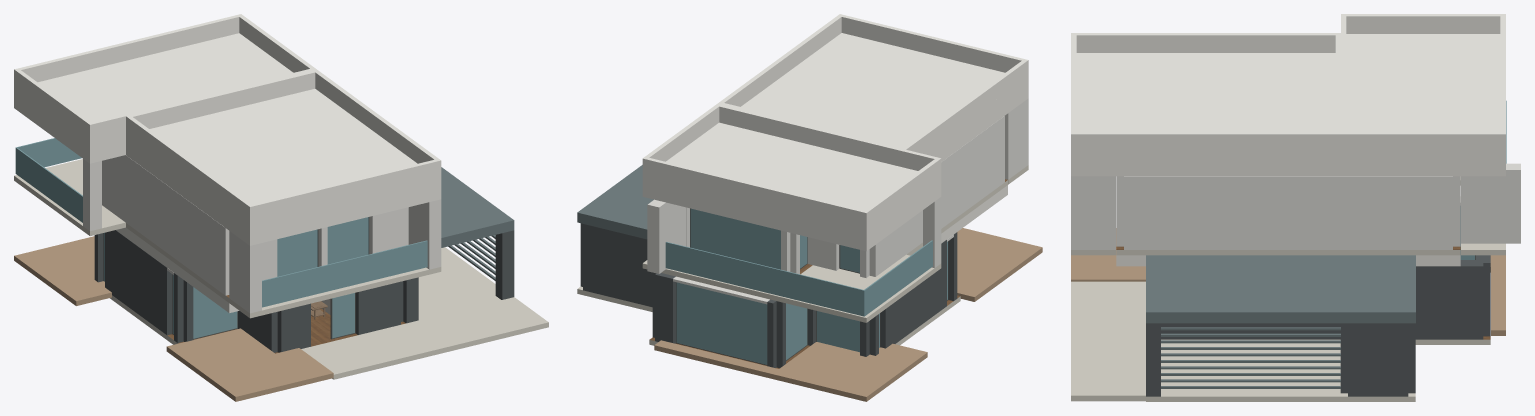
3 renders of one model, left to right at view 1: azimuth 30°, elevation 25°; view 2: azimuth 150°, elevation 25°; view 3: azimuth 270°, elevation 25°, orthographic. The views are drawn at different scales.
Visible parts, largest first — view 1: main-roof-1, main-roof-0, upper/west/end, carport-apron, balcony-glass-0, ground/kitchen-west/pier-1, parapet-0-3, front-deck, rear-west, parapet-1-2, ground/slab/2, parapet-1-3 (+32 smaller); view 2: main-roof-1, main-roof-0, upper/west/end, ground/living-rear/glass-0, rear-west, balcony-glass-2, ground/store-rear/end, parapet-0-3, parapet-0-2, upper/primary-rear/glass-0, parapet-1-2, carport-roof (+28 smaller); view 3: main-roof-1, upper/east/end, main-roof-0, carport-roof, carport-apron, ground/slab/2, ground/east/end, parapet-1-1, parapet-1-0, ground/store-east/end, balcony-frame-3, balcony-frame-1 (+30 smaller).
Part boxes in pixels (x1=…): main-roof-1: x1=126, y1=89, x2=441, y2=245; main-roof-0: x1=14, y1=33, x2=293, y2=163; upper/west/end: x1=102, y1=155, x2=229, y2=295; carport-apron: x1=301, y1=297, x2=548, y2=379; balcony-glass-0: x1=262, y1=240, x2=427, y2=307; ground/kitchen-west/pier-1: x1=105, y1=230, x2=172, y2=335; parapet-0-3: x1=14, y1=14, x2=243, y2=86; front-deck: x1=201, y1=348, x2=333, y2=401; rear-west: x1=14, y1=236, x2=111, y2=305; parapet-1-2: x1=248, y1=159, x2=441, y2=222; ground/slab/2: x1=418, y1=247, x2=501, y2=320; parapet-1-3: x1=126, y1=70, x2=315, y2=133; main-roof-1: x1=741, y1=33, x2=1028, y2=161; main-roof-0: x1=642, y1=122, x2=941, y2=251; upper/west/end: x1=869, y1=116, x2=1004, y2=276; ground/living-rear/glass-0: x1=676, y1=282, x2=767, y2=364; rear-west: x1=772, y1=342, x2=927, y2=401; balcony-glass-2: x1=665, y1=242, x2=864, y2=316; ground/store-rear/end: x1=583, y1=224, x2=652, y2=307; parapet-0-3: x1=642, y1=157, x2=868, y2=228; parapet-0-2: x1=715, y1=104, x2=941, y2=175; upper/primary-rear/glass-0: x1=690, y1=208, x2=780, y2=269; parapet-1-2: x1=841, y1=15, x2=1026, y2=72; carport-roof: x1=577, y1=165, x2=653, y2=239; main-roof-1: x1=1071, y1=53, x2=1340, y2=176; upper/east/end: x1=1124, y1=176, x2=1452, y2=249; main-roof-0: x1=1341, y1=34, x2=1505, y2=176; carport-roof: x1=1146, y1=255, x2=1415, y2=323; carport-apron: x1=1071, y1=281, x2=1145, y2=401; ground/slab/2: x1=1146, y1=339, x2=1415, y2=401; ground/east/end: x1=1161, y1=260, x2=1483, y2=339; parapet-1-1: x1=1071, y1=132, x2=1340, y2=151; parapet-1-0: x1=1071, y1=33, x2=1340, y2=52; ground/store-east/end: x1=1348, y1=323, x2=1408, y2=396; balcony-frame-3: x1=1461, y1=163, x2=1520, y2=243; balcony-frame-1: x1=1071, y1=176, x2=1115, y2=249.
Bounding box in the file's own units: 14.01 × 7.75 × 15.
Materials: 69 (2 with a texture image).
